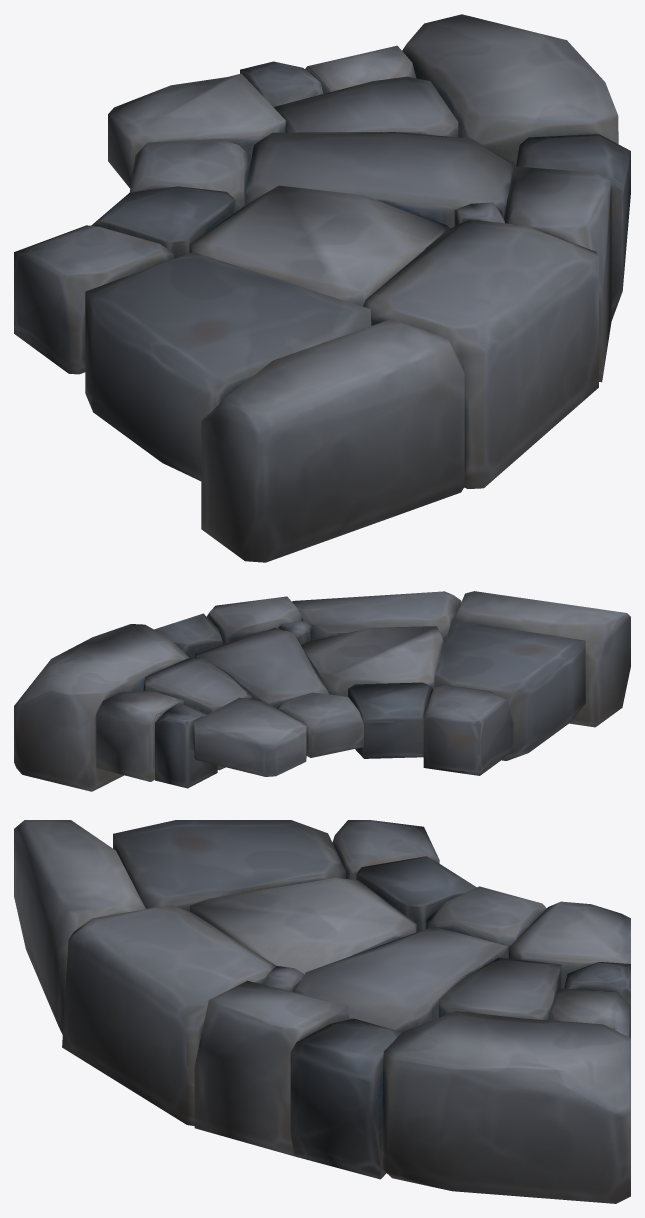
File: StoneFloor_Stone.fbx
3 renders of one model, top to bottom at view 1: azimuth 30°, elevation 25°; view 2: azimuth 150°, elevation 25°; view 3: azimuth 270°, elevation 25°, orthographic. The views are drawn at different scales.
Visible parts, largest first — view 1: U_StoneFloor_Stone; view 2: U_StoneFloor_Stone; view 3: U_StoneFloor_Stone.
Boxes of the visible parts, bbox=[...] form: U_StoneFloor_Stone: bbox=[14, 14, 630, 562]; U_StoneFloor_Stone: bbox=[14, 591, 630, 791]; U_StoneFloor_Stone: bbox=[14, 820, 630, 1203].
Bounding box in the file's own units: 266 × 59.76 × 267.
Materials: 1 (1 with a texture image).
